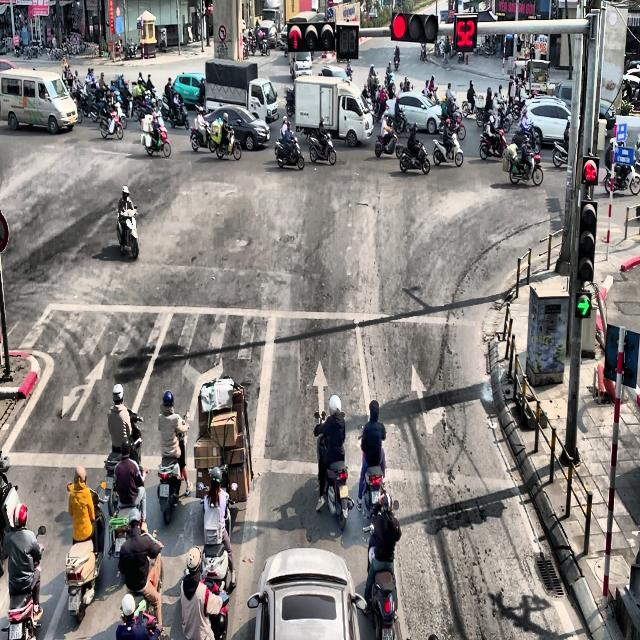CAR: (247, 546, 368, 640), (202, 104, 270, 151), (395, 92, 444, 134), (172, 72, 206, 109), (318, 66, 351, 81)
MOTORBIKE: (64, 487, 107, 623), (6, 526, 46, 639), (362, 525, 398, 639), (157, 411, 190, 525), (108, 466, 148, 558), (317, 436, 354, 530), (356, 424, 391, 518), (0, 453, 26, 574), (141, 114, 171, 157), (509, 149, 543, 185), (274, 133, 305, 170), (117, 206, 138, 259), (398, 140, 430, 174), (432, 131, 463, 166), (309, 131, 336, 165), (216, 125, 241, 161), (479, 128, 507, 160), (375, 124, 399, 158), (190, 120, 215, 152), (438, 112, 466, 140), (100, 107, 123, 140), (385, 109, 408, 135), (461, 93, 484, 117), (384, 73, 396, 98), (284, 88, 294, 116), (400, 76, 413, 92), (260, 36, 270, 56), (393, 50, 400, 70), (420, 43, 427, 61), (345, 66, 353, 81)
TRAFFIC_LIGHT: (577, 199, 597, 282), (286, 20, 336, 52), (389, 10, 438, 42), (453, 13, 478, 52), (581, 156, 599, 186)
TRUCK: (294, 75, 374, 147), (204, 58, 279, 124)
